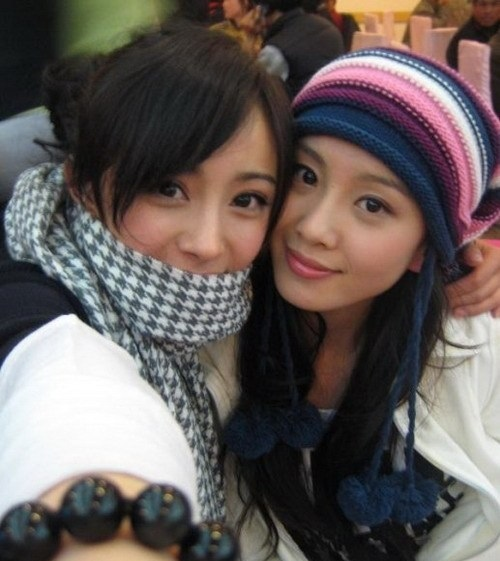face: (105, 94, 273, 327), (275, 122, 420, 313)
face_mask: (473, 1, 499, 25)
